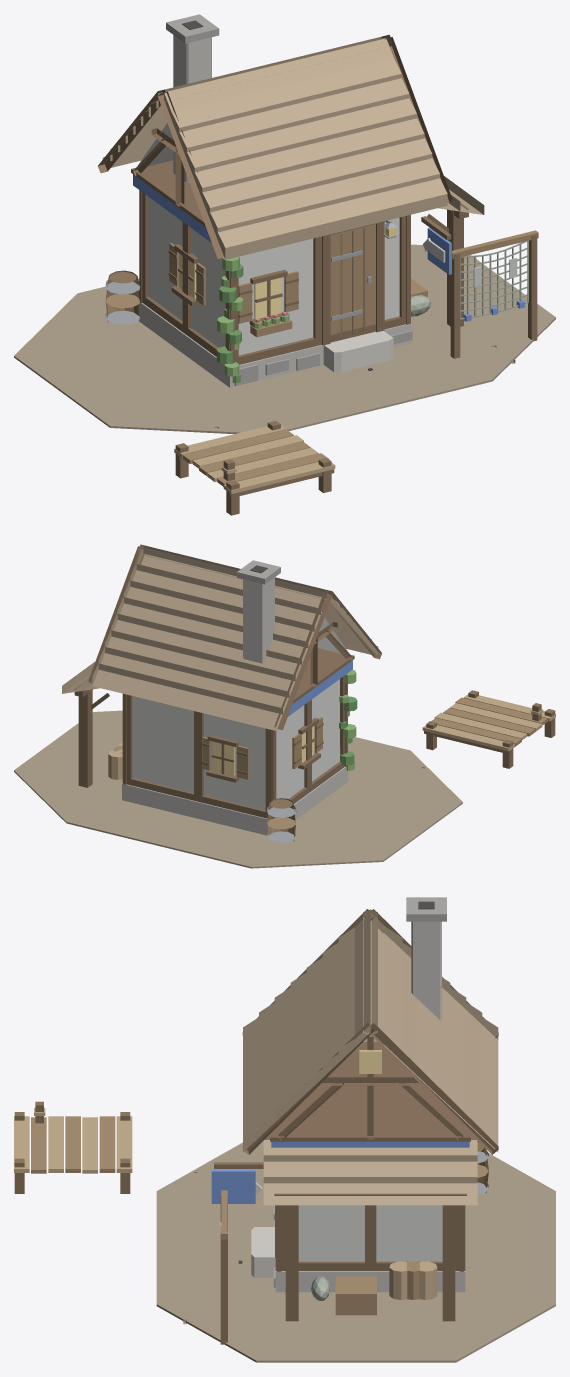
The model's file is fisher_hut.glb.
3 renders of one model, top to bottom at view 1: azimuth 30°, elevation 25°; view 2: azimuth 150°, elevation 25°; view 3: azimuth 270°, elevation 25°, orthographic. The views are drawn at different scales.
Visible parts, largest first — view 1: Ground, Walls, Roof, Roof#6, Roof#7, Roof#4, Roof#3, Roof#2, Roof#5, Roof#8, Door, Plinth (+32 smaller); view 2: Ground, Walls, Roof#9, Plinth, Roof#10, Roof#11, Roof#12, Roof#13, Roof#14, Roof#15, Roof#16, Chimney (+25 smaller); view 3: Ground, Band.Edge, Walls, Shed.Roof, Shed.Roof#2, Chimney, Roof#3, Roof#4, Roof#5, Shed.Roof#3, Roof#6, Roof#7 (+38 smaller).
Boxes of the visible parts, x1=… form: Ground: x1=14, y1=244, x2=555, y2=433; Walls: x1=148, y1=197, x2=399, y2=355; Roof: x1=217, y1=178, x2=447, y2=259; Roof#6: x1=179, y1=78, x2=409, y2=158; Roof#7: x1=171, y1=58, x2=401, y2=138; Roof#4: x1=194, y1=118, x2=424, y2=198; Roof#3: x1=202, y1=138, x2=432, y2=218; Roof#2: x1=210, y1=158, x2=439, y2=238; Roof#5: x1=187, y1=98, x2=416, y2=178; Roof#8: x1=164, y1=38, x2=393, y2=118; Door: x1=330, y1=224, x2=375, y2=337; Plinth: x1=138, y1=302, x2=411, y2=387; Ground: x1=14, y1=710, x2=462, y2=868; Walls: x1=132, y1=679, x2=339, y2=810; Roof#9: x1=92, y1=663, x2=282, y2=730; Plinth: x1=122, y1=766, x2=348, y2=835; Roof#10: x1=98, y1=647, x2=289, y2=713; Roof#11: x1=105, y1=630, x2=295, y2=696; Roof#12: x1=111, y1=614, x2=301, y2=680; Roof#13: x1=117, y1=597, x2=308, y2=663; Roof#14: x1=124, y1=580, x2=314, y2=647; Roof#15: x1=130, y1=564, x2=320, y2=630; Roof#16: x1=137, y1=547, x2=327, y2=614; Chimney: x1=243, y1=577, x2=274, y2=663; Ground: x1=156, y1=1141, x2=555, y2=1362; Band.Edge: x1=270, y1=1042, x2=470, y2=1141; Walls: x1=298, y1=1205, x2=442, y2=1261; Shed.Roof: x1=263, y1=1177, x2=477, y2=1205; Shed.Roof#2: x1=263, y1=1155, x2=477, y2=1176; Chimney: x1=411, y1=921, x2=441, y2=1020; Roof#3: x1=274, y1=987, x2=290, y2=1122; Roof#4: x1=290, y1=972, x2=306, y2=1107; Roof#5: x1=306, y1=957, x2=322, y2=1092; Shed.Roof#3: x1=263, y1=1134, x2=477, y2=1155; Roof#6: x1=322, y1=942, x2=338, y2=1077; Roof#7: x1=338, y1=927, x2=354, y2=1062.
Bounding box in the file's own units: 7.5 × 4.93 × 7.6.
